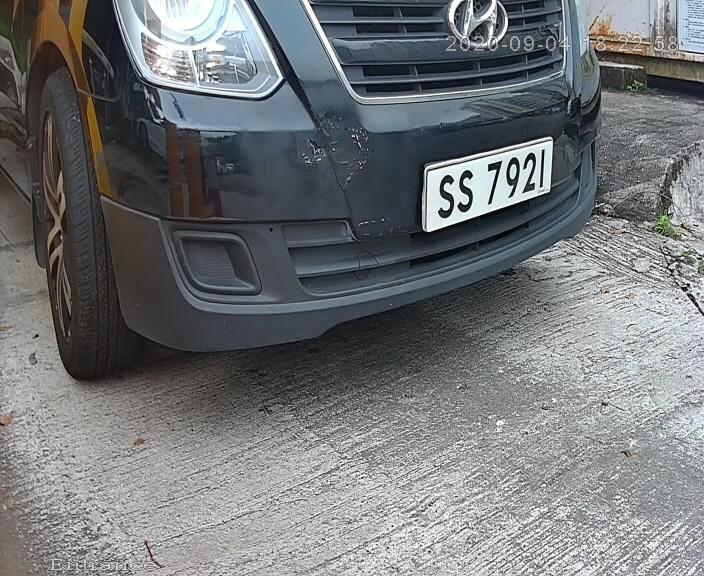License Plate: (409, 129, 563, 235)
